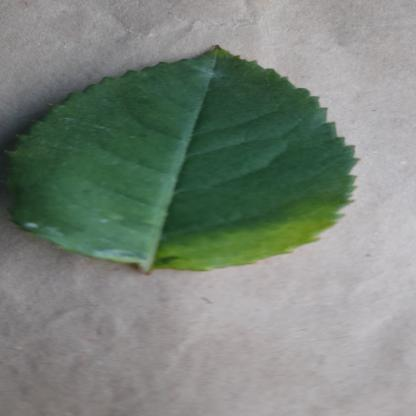normal: (19, 46, 366, 272)
